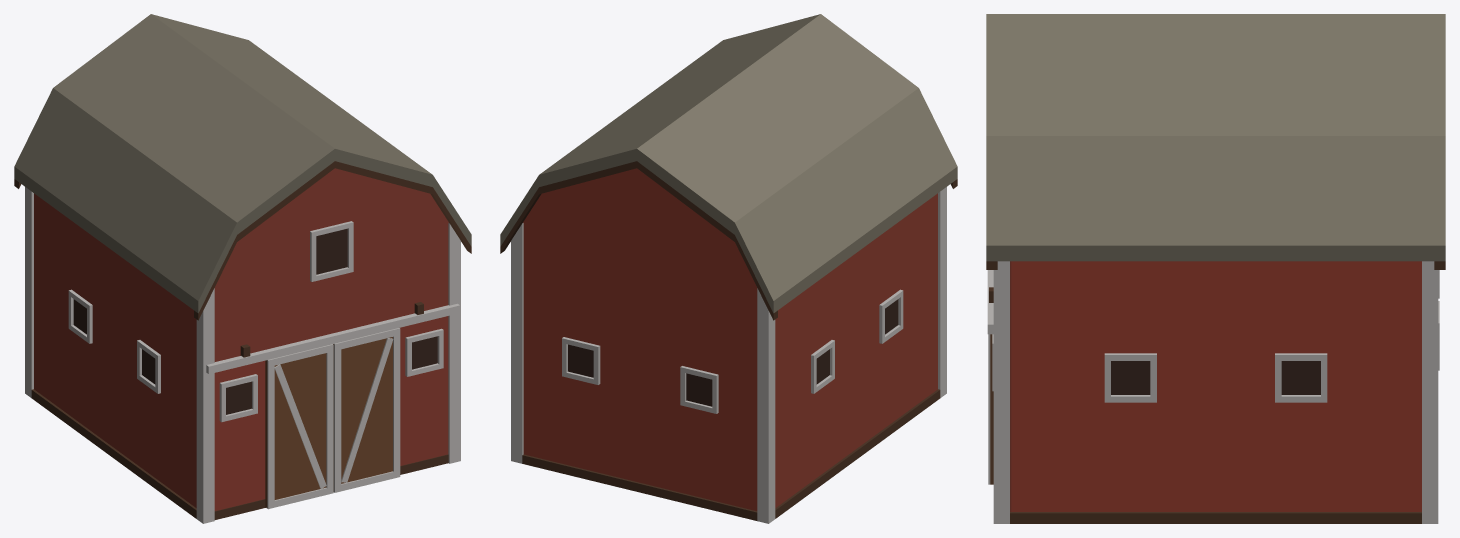
File: red-barn.glb
3 views of the same model, side by side, from view 1: azimuth 30°, elevation 25°; view 2: azimuth 150°, elevation 25°; view 3: azimuth 270°, elevation 25° (orthographic). The views are drawn at different scales.
Parts seen in each view (by area): view 1: barn, door-l-leaf, door-r-leaf; view 2: barn; view 3: barn, door-r-leaf.
Boxes of the visible parts, x1,y1,x2,y2 form: barn: [14, 14, 471, 523]; door-l-leaf: [265, 344, 333, 509]; door-r-leaf: [333, 328, 400, 492]; barn: [500, 14, 957, 523]; barn: [986, 14, 1445, 523]; door-r-leaf: [988, 334, 993, 484].
Bounding box in the file's own units: 6 × 7.26 × 7.
